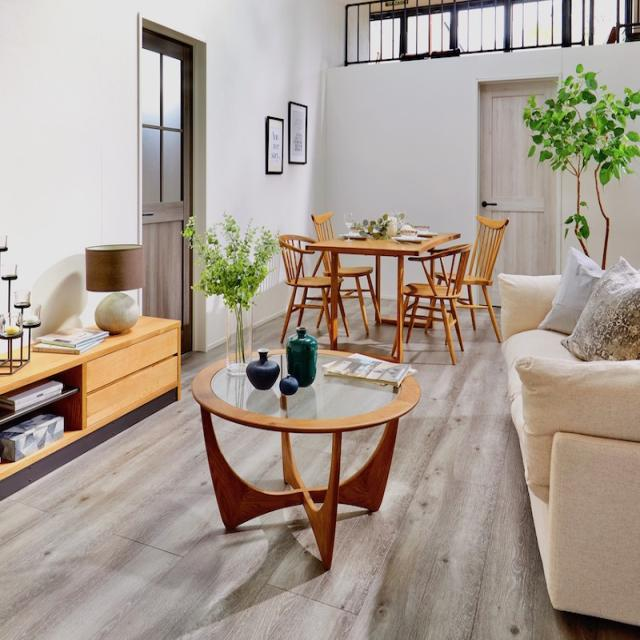vintage desk: (161, 338, 432, 580)
